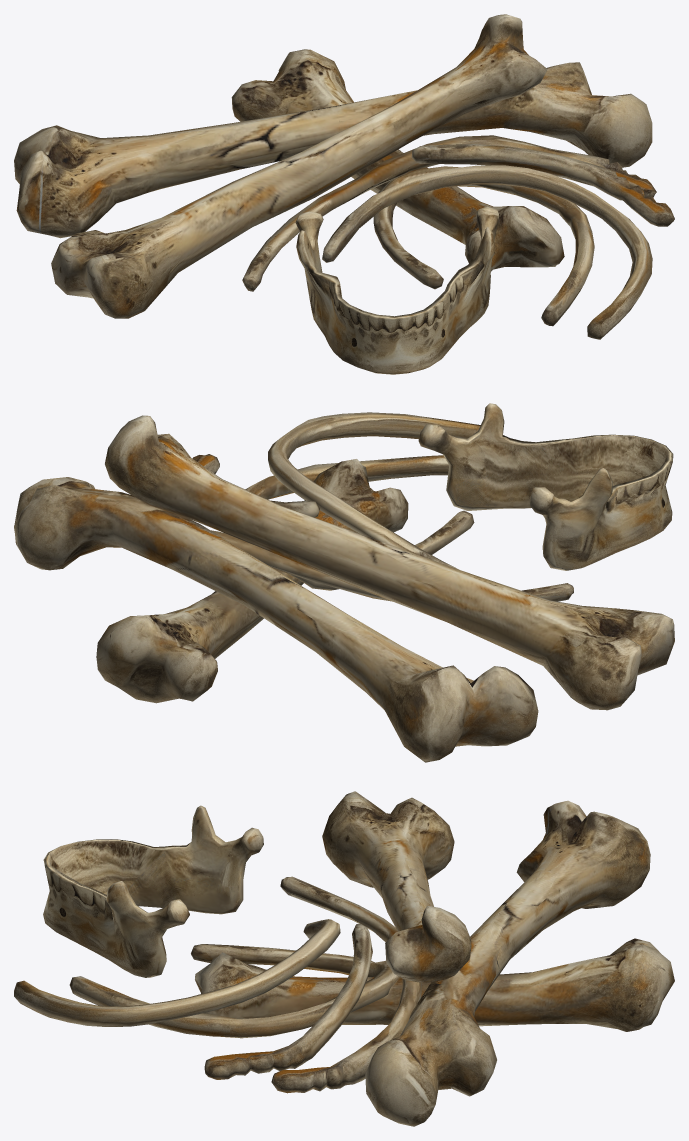
The picture shows the model from 3 angles, top to bottom: view 1: azimuth 30°, elevation 25°; view 2: azimuth 150°, elevation 25°; view 3: azimuth 270°, elevation 25°; orthographic projection. The views are drawn at different scales.
Bounding box in the file's own units: 1 × 0.2922 × 0.974.
Materials: 1 (1 with a texture image).
